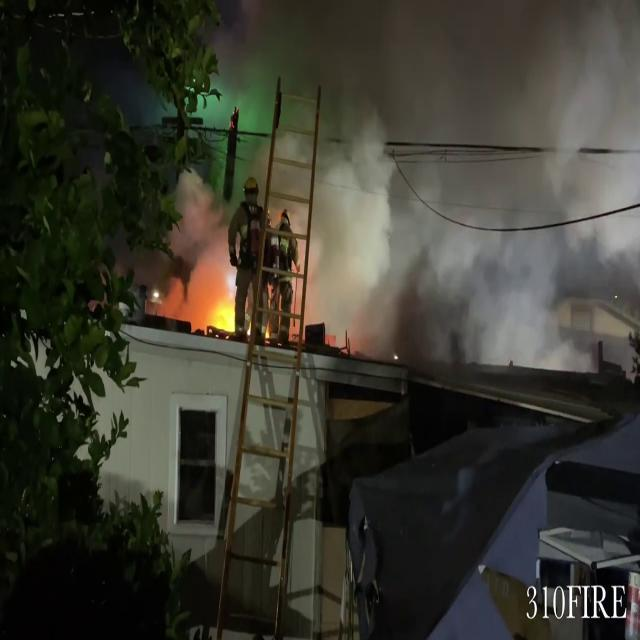Fire: (194, 285, 240, 338)
Smoke: (161, 0, 640, 359)
